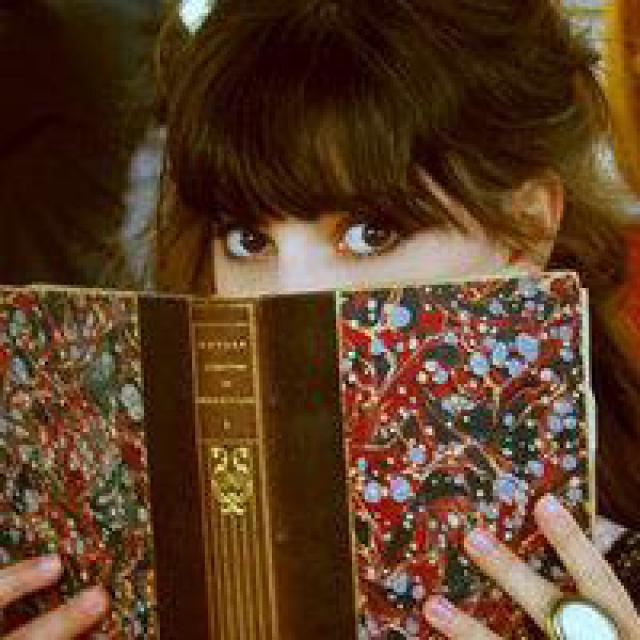nomask: (206, 131, 504, 464)
